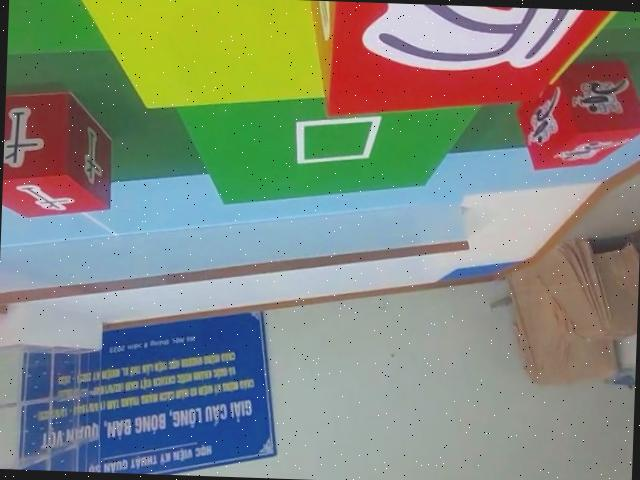R1: (511, 61, 640, 175)
R2 Fake: (303, 0, 626, 129)
R2 Real: (1, 89, 115, 224)
